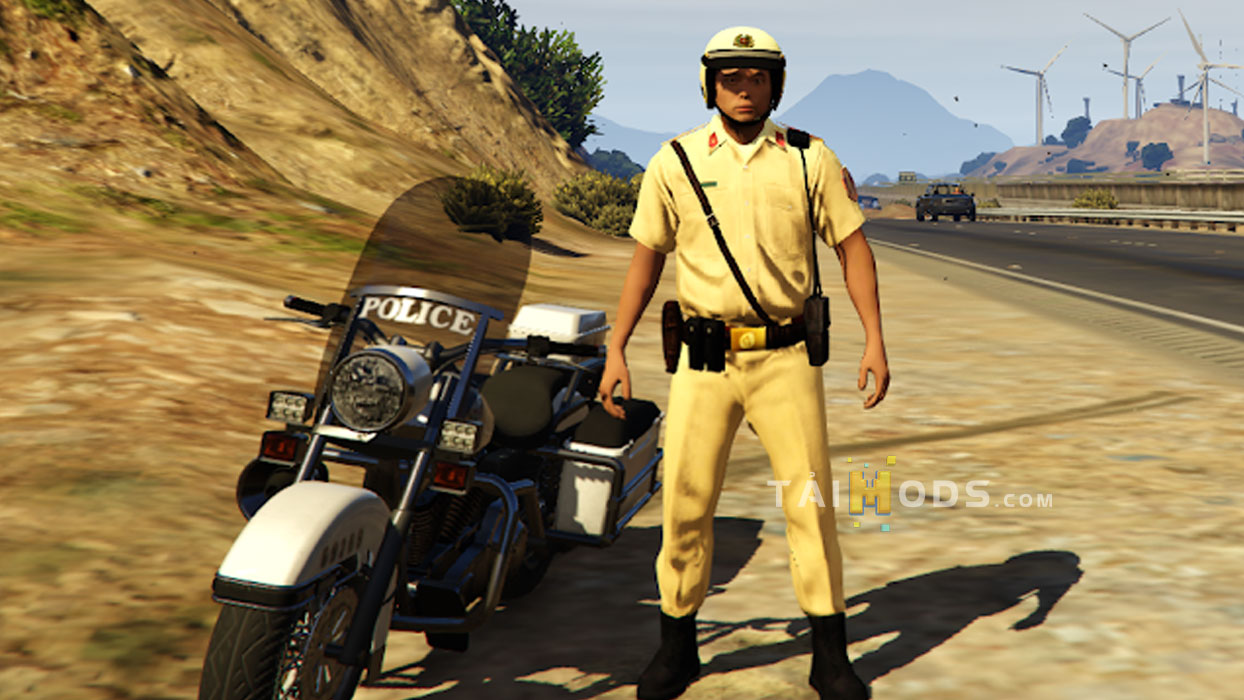xe_may: (199, 162, 667, 691)
xe_tai: (914, 182, 977, 226)
